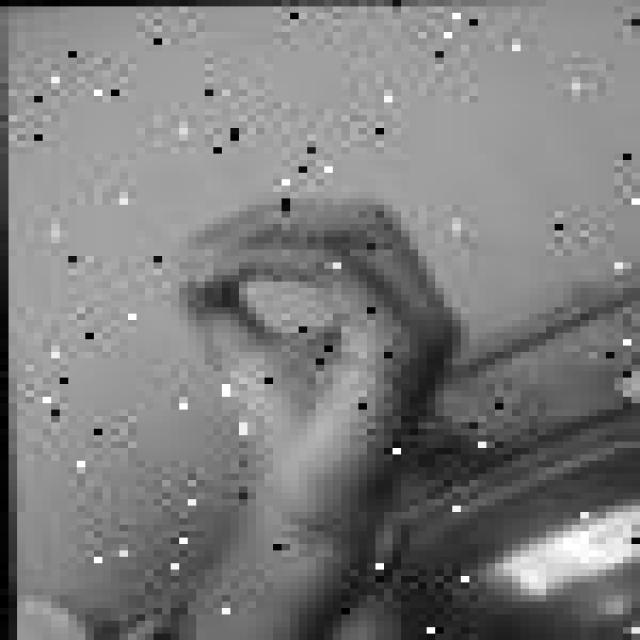O: (141, 186, 499, 544)
